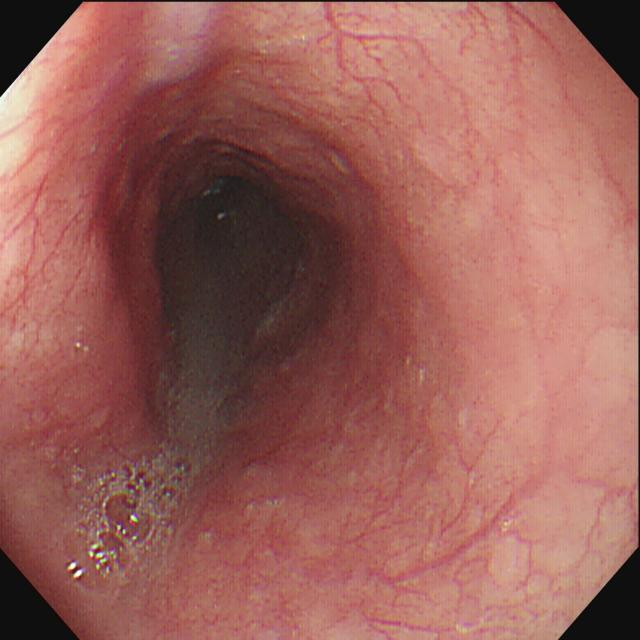E: (170, 168, 309, 324)
T: (66, 387, 227, 600)
